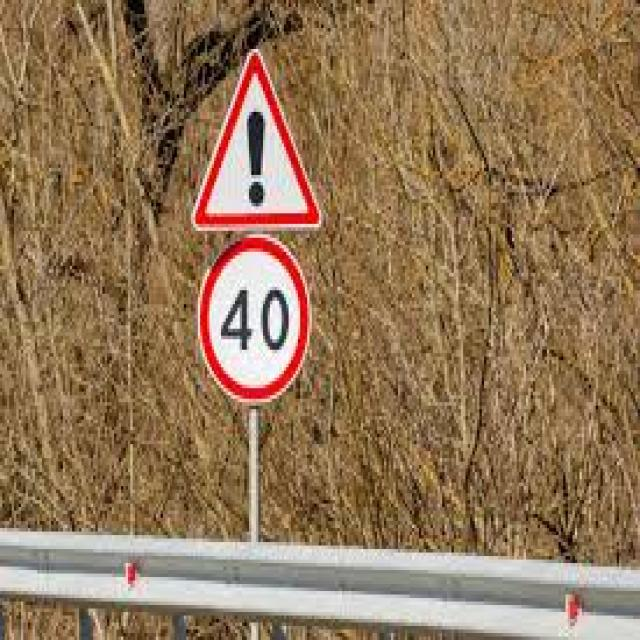speed limit 40: (195, 234, 316, 406)
